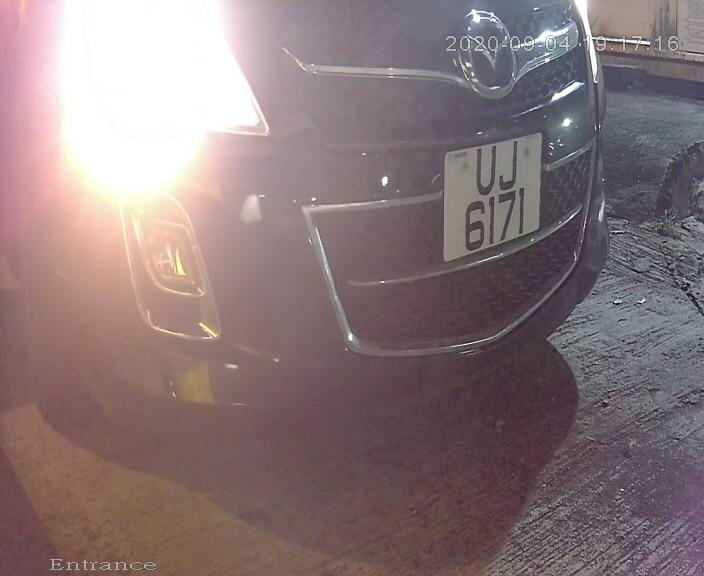License Plate: (431, 114, 551, 281)
